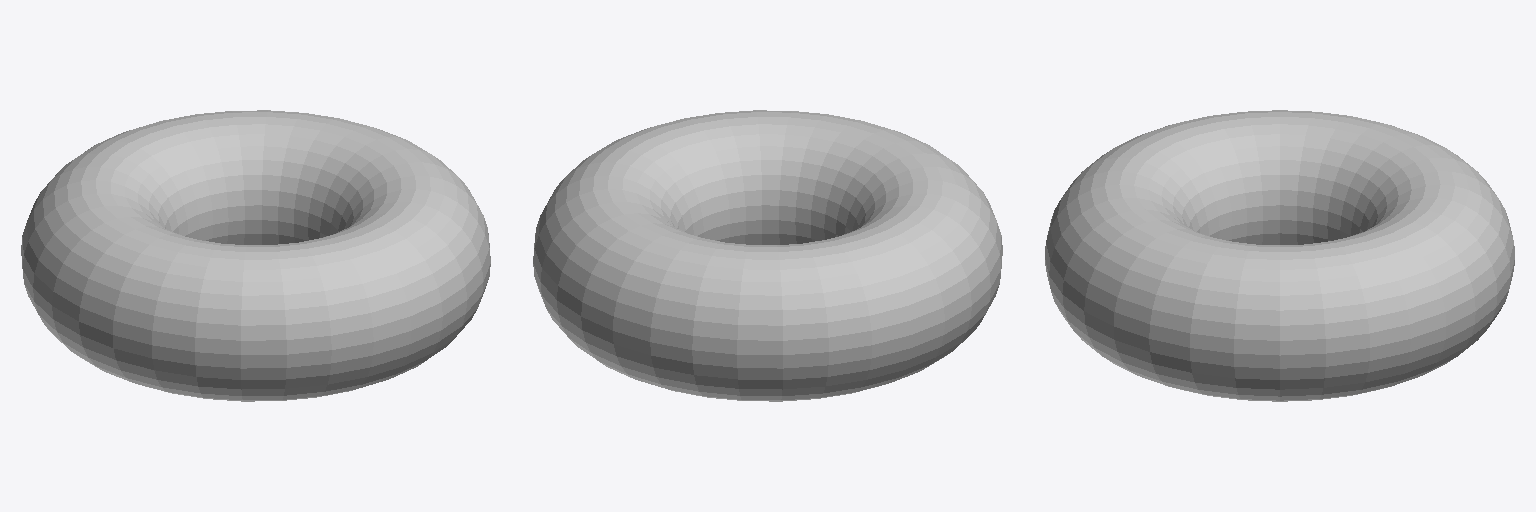
The model's file is torus32_smoothed_30.obj.
3 views of the same model, side by side, from view 1: azimuth 30°, elevation 25°; view 2: azimuth 150°, elevation 25°; view 3: azimuth 270°, elevation 25° (orthographic).
Size of the model in its own units: 11.02 by 3.69 by 11.02.